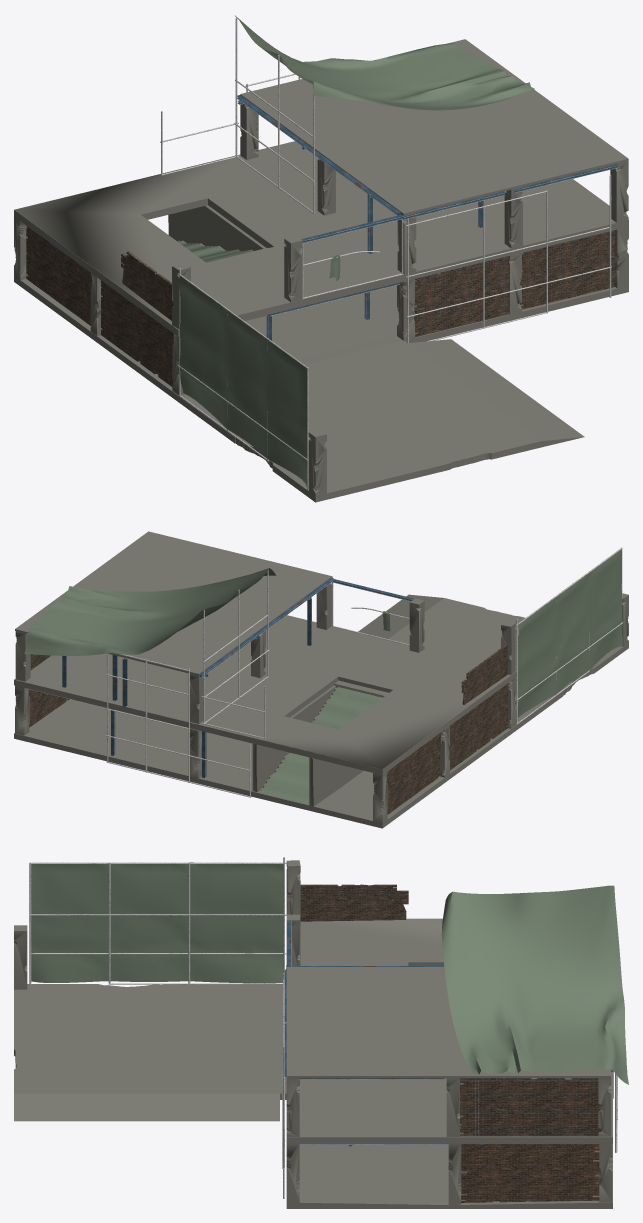
File: Site.fbx
3 renders of one model, top to bottom at view 1: azimuth 30°, elevation 25°; view 2: azimuth 150°, elevation 25°; view 3: azimuth 270°, elevation 25°, orthographic. The views are drawn at different scales.
Parts seen in each view (by area): view 1: Group1; view 2: Group1; view 3: Group1.
Boxes of the visible parts, x1,y1,x2,y2 form: Group1: (14, 15, 628, 502); Group1: (14, 531, 628, 828); Group1: (14, 857, 628, 1208).
Bounding box in the file's own units: 1580 × 712 × 1872.
